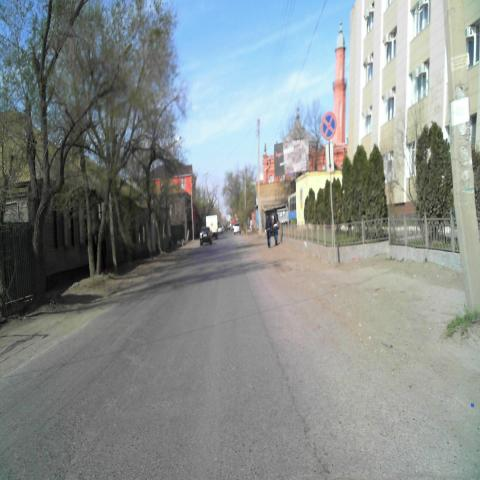8_2_3: (325, 142, 334, 174)
